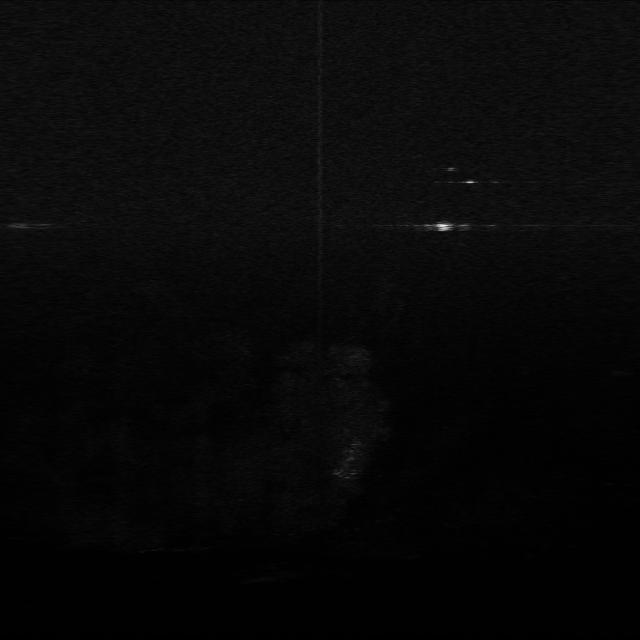rov: (429, 218, 457, 235)
